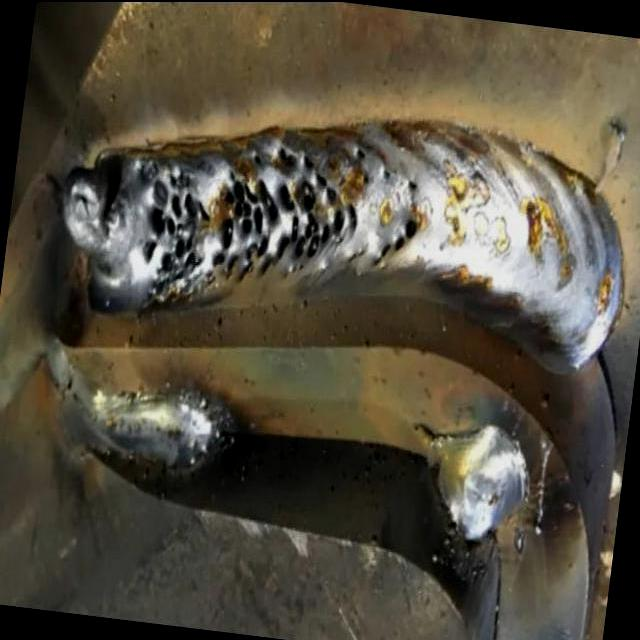defect: (132, 136, 361, 315), (369, 211, 421, 272), (406, 173, 421, 198), (356, 144, 368, 161), (383, 163, 393, 182), (361, 171, 370, 185)
